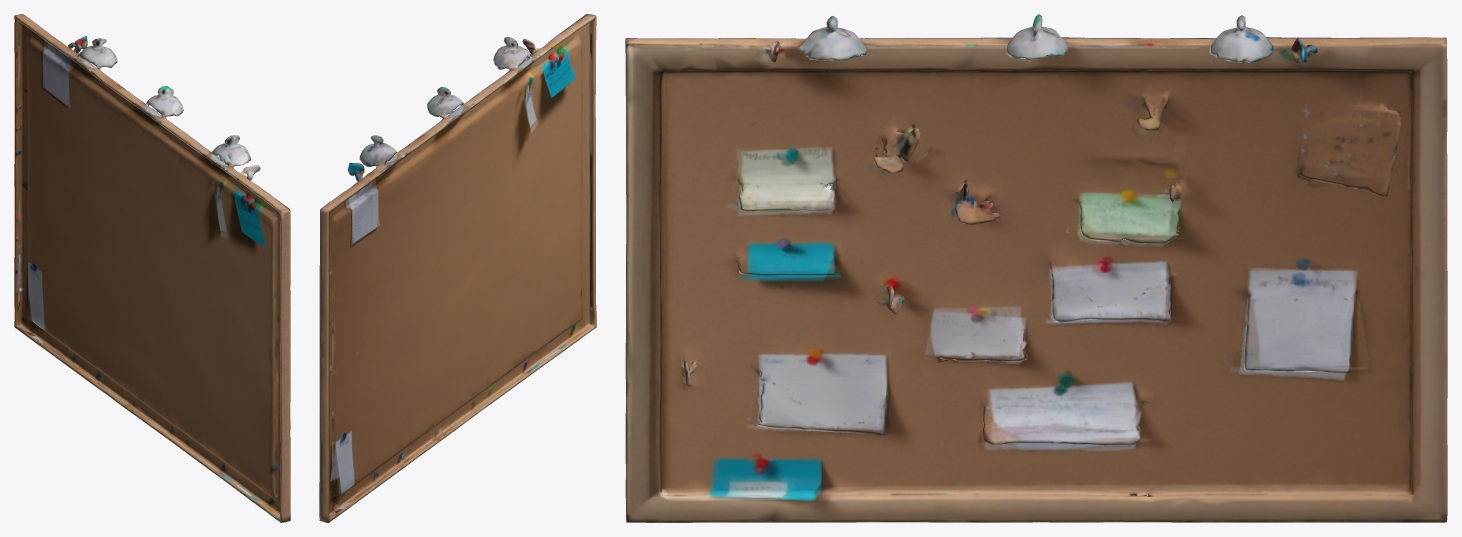
File: A corkboard.gltf
3 renders of one model, left to right at view 1: azimuth 30°, elevation 25°; view 2: azimuth 150°, elevation 25°; view 3: azimuth 270°, elevation 25°, orthographic. The views are drawn at different scales.
Parts seen in each view (by area): view 1: Mesh1.0; view 2: Mesh1.0; view 3: Mesh1.0.
Part boxes in pixels (<box>): Mesh1.0: <box>14,14,290,522</box>; Mesh1.0: <box>319,14,596,522</box>; Mesh1.0: <box>625,14,1447,522</box>.
Size of the model in its own units: 0.1499 by 1.38 by 2.01.
Materials: 1 (1 with a texture image).
